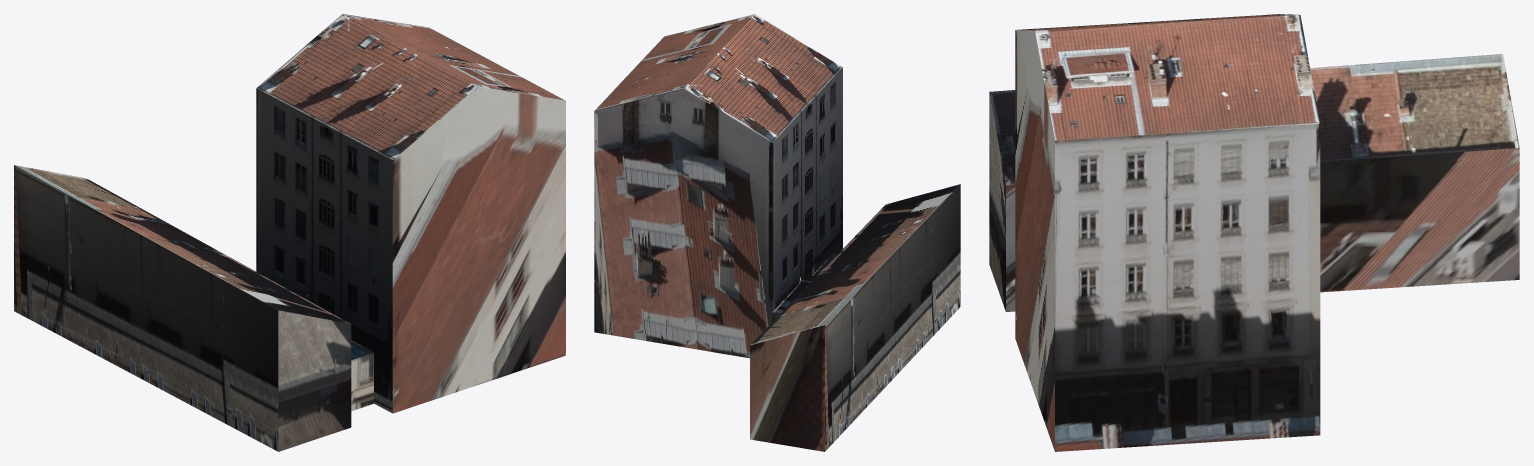
3 views of the same model, side by side, from view 1: azimuth 30°, elevation 25°; view 2: azimuth 150°, elevation 25°; view 3: azimuth 270°, elevation 25° (orthographic). The views are drawn at different scales.
Visible parts, largest first — view 1: Z_UP; view 2: Z_UP; view 3: Z_UP.
Boxes of the visible parts, x1,y1,x2,y2 form: Z_UP: (14,14,565,451); Z_UP: (594,14,960,451); Z_UP: (989,14,1519,451).
Size of the model in its own units: 30.23 by 23.36 by 30.86.
Materials: 2 (1 with a texture image).
